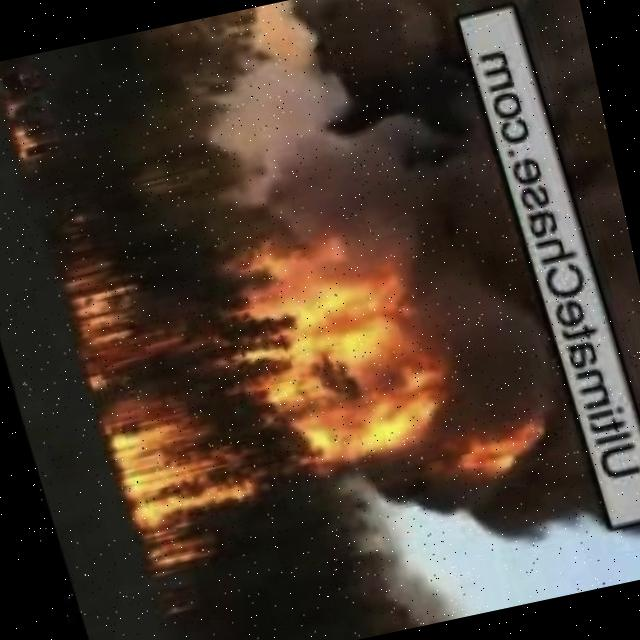fire: (39, 209, 254, 578), (223, 216, 449, 480), (414, 409, 554, 491), (0, 80, 57, 169)
